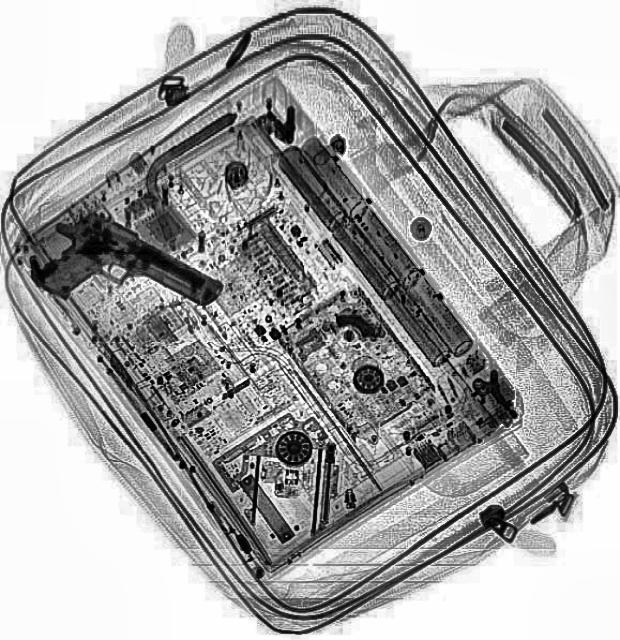Gun: (22, 196, 227, 364)
